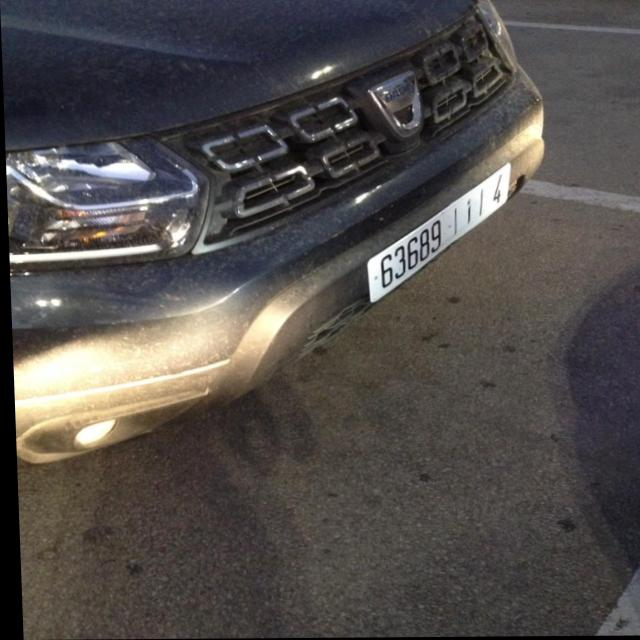License-Plate: (366, 163, 510, 302)
